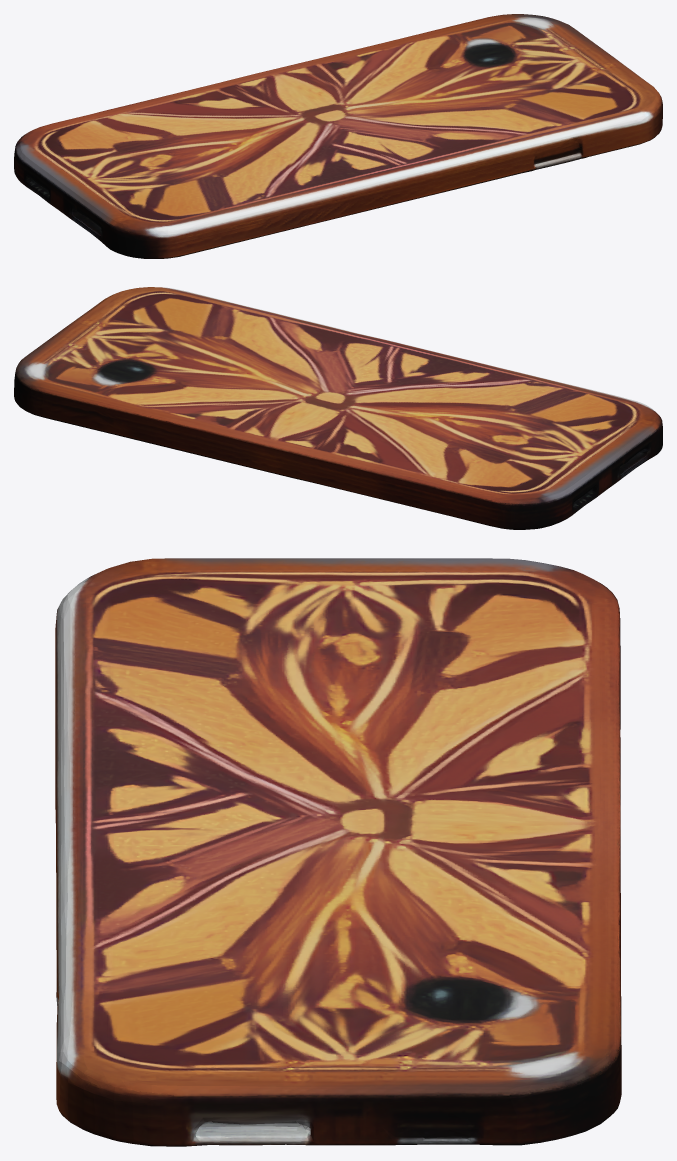
Rendered from wooden-phone-case-art-deco.jpeg.glb.
3 views of the same model, one above another, from view 1: azimuth 30°, elevation 25°; view 2: azimuth 150°, elevation 25°; view 3: azimuth 270°, elevation 25° (orthographic). The views are drawn at different scales.
Visible parts, largest first — view 1: world; view 2: world; view 3: world.
Boxes of the visible parts, bbox=[...] form: world: bbox=[14, 14, 662, 258]; world: bbox=[14, 287, 662, 529]; world: bbox=[55, 558, 621, 1146].
Bounding box in the file's own units: 1 × 0.0526 × 0.4474.
Materials: 1 (1 with a texture image).
